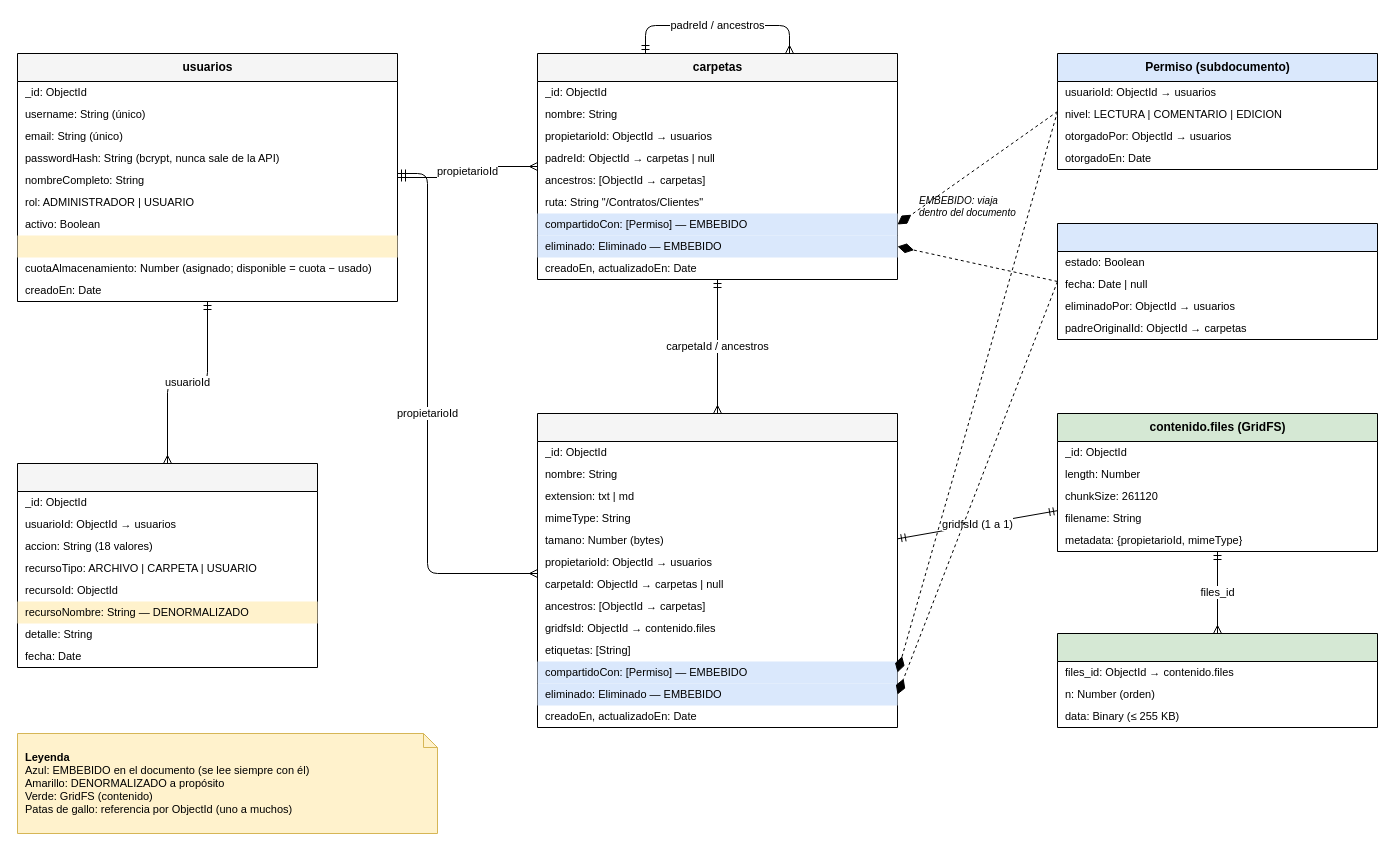
Image size: 1395x851. Some labels were removed from this diagram. The shapes that lost their labels are listed below. From the top down, each one's box as (x1, y1, x2, y2) in pixels, then its label:
(17, 235, 397, 257): almacenamientoUsado: Number — DENORMALIZADO
(1056, 222, 1378, 340): Eliminado (subdocumento)
(16, 462, 318, 668): actividad
(536, 412, 898, 728): archivos
(1056, 632, 1378, 728): contenido.chunks (GridFS)
